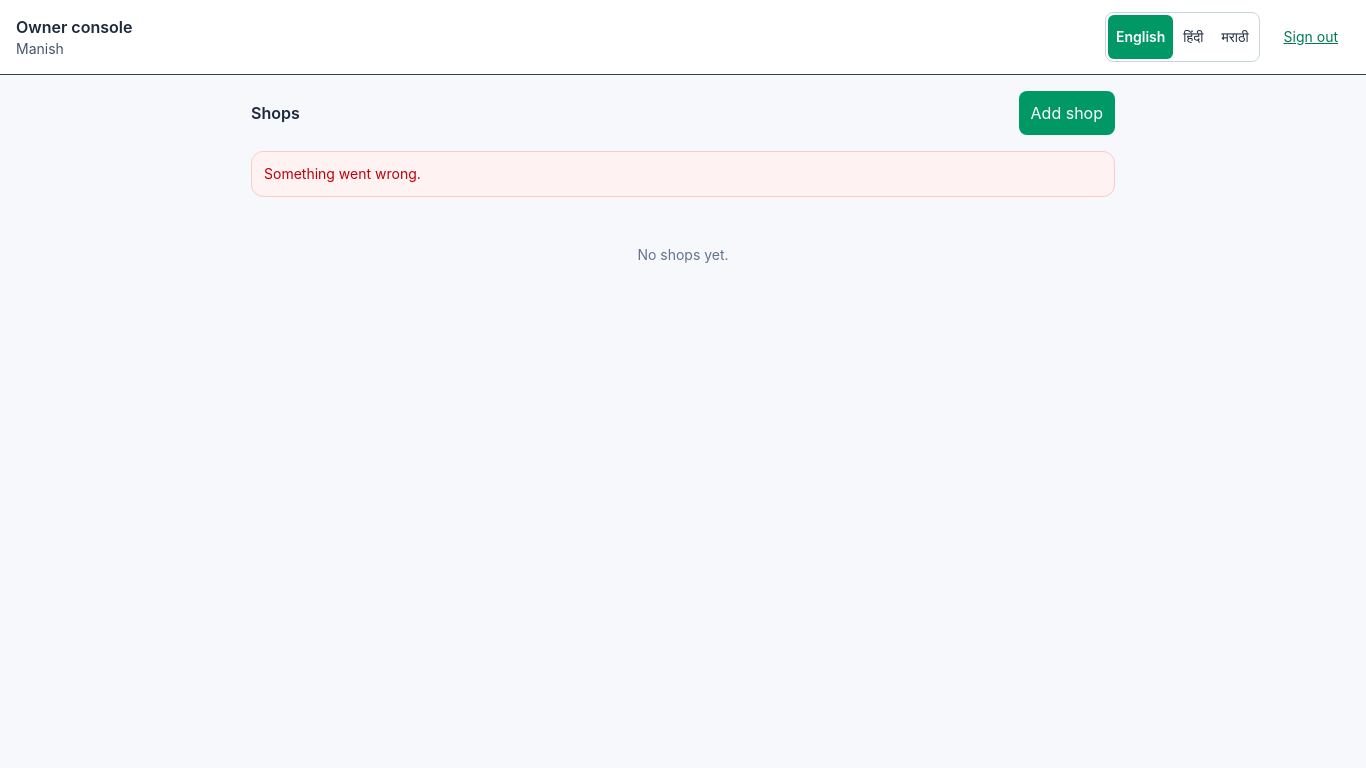
the owner console › clears a load failure once a later load succeeds
The width and height of the screenshot is (1366, 768).
Expected: the text "Something went wrong." is shown, top-left (264, 165), bottom-right (421, 182)
Step 1. Click the button with test id "owner-add" → [1067, 113], box top-left (1019, 91), bottom-right (1115, 135)
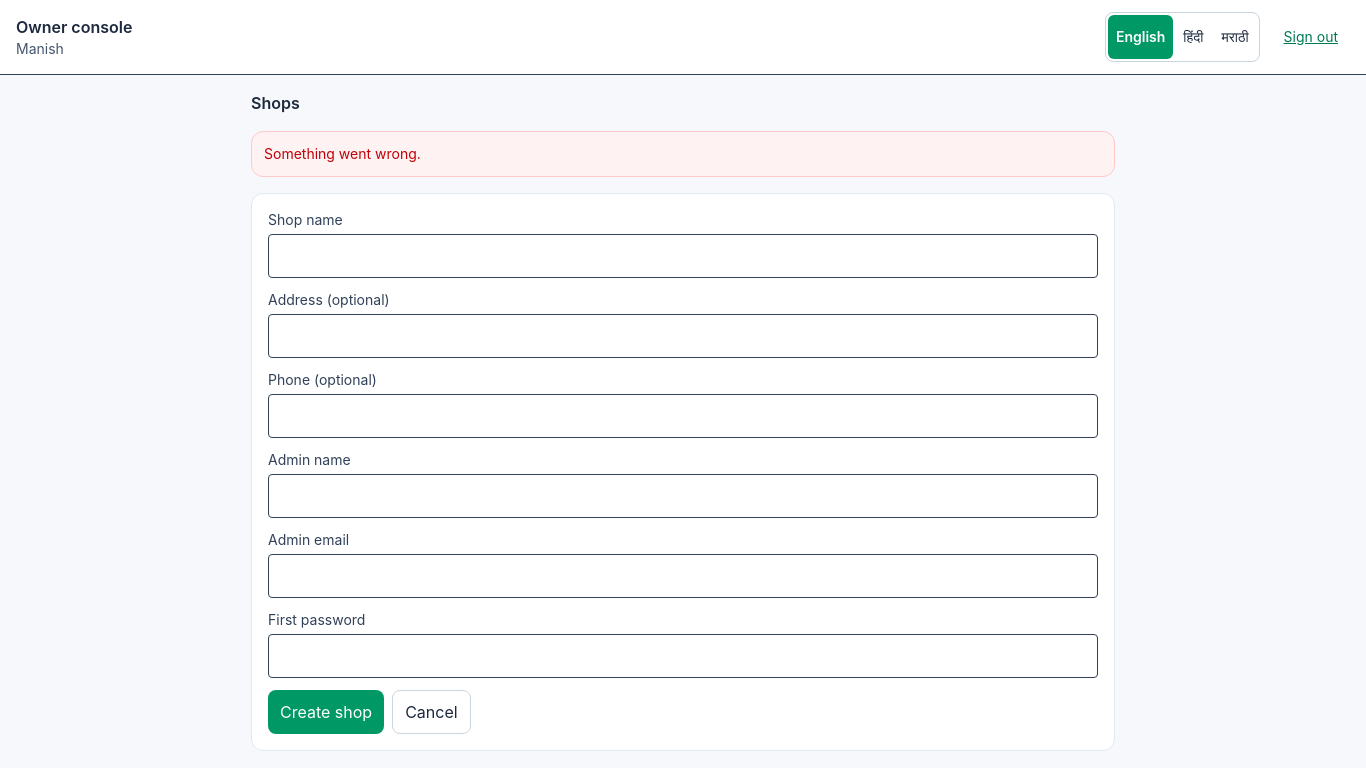
Step 2. Type "New Shop" into the field with test id "owner-vendorName" → [683, 256], box top-left (268, 234), bottom-right (1098, 278)
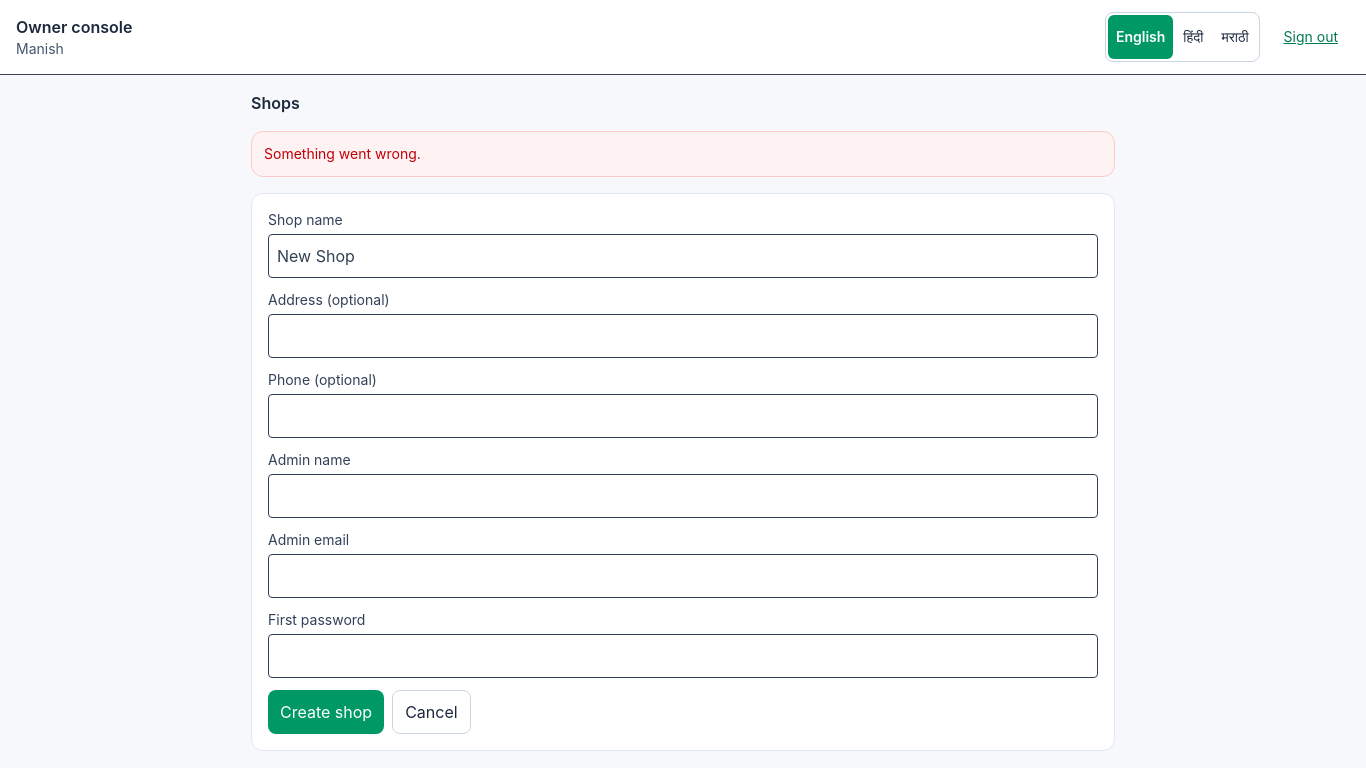
Step 3. Type "Asha" into the field with test id "owner-adminName" → [683, 496], box top-left (268, 474), bottom-right (1098, 518)
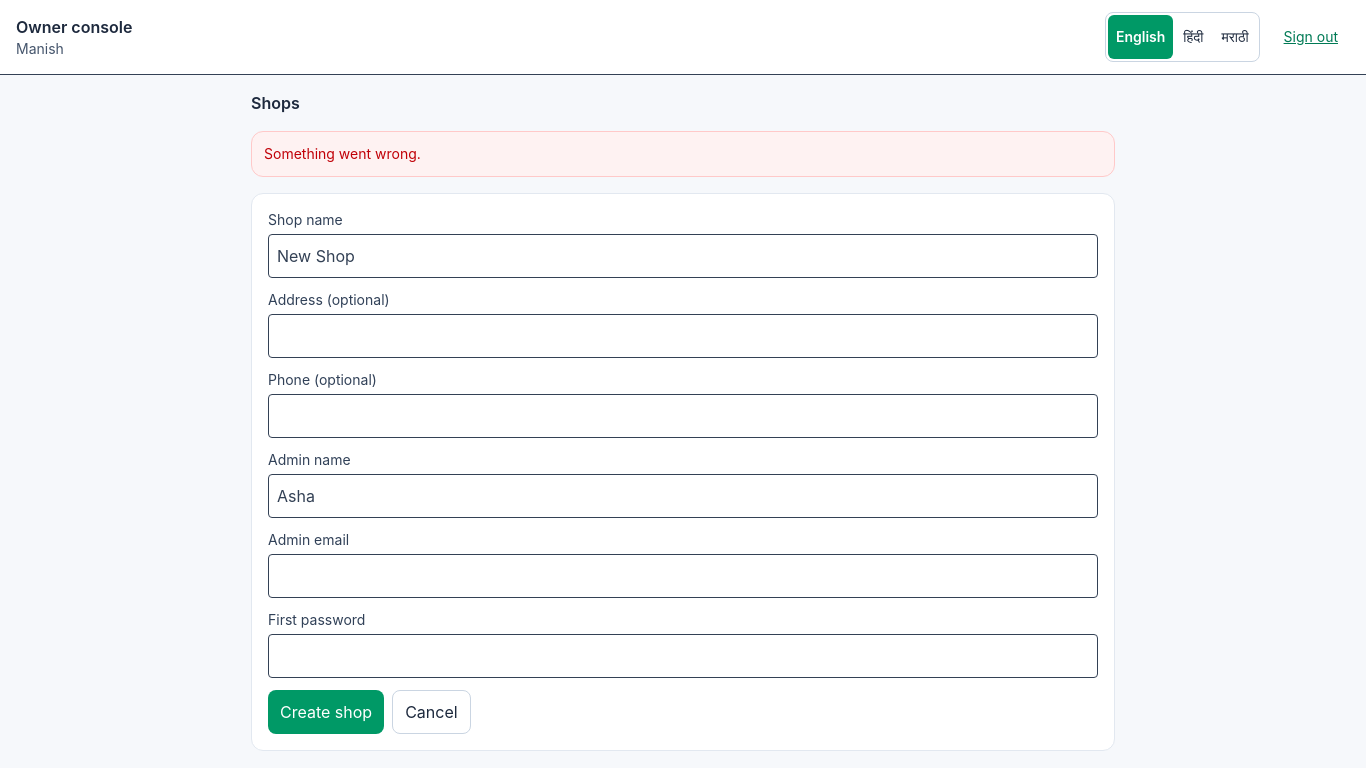
Step 4. Type "asha@shop.test" into the field with test id "owner-email" → [683, 576], box top-left (268, 554), bottom-right (1098, 598)
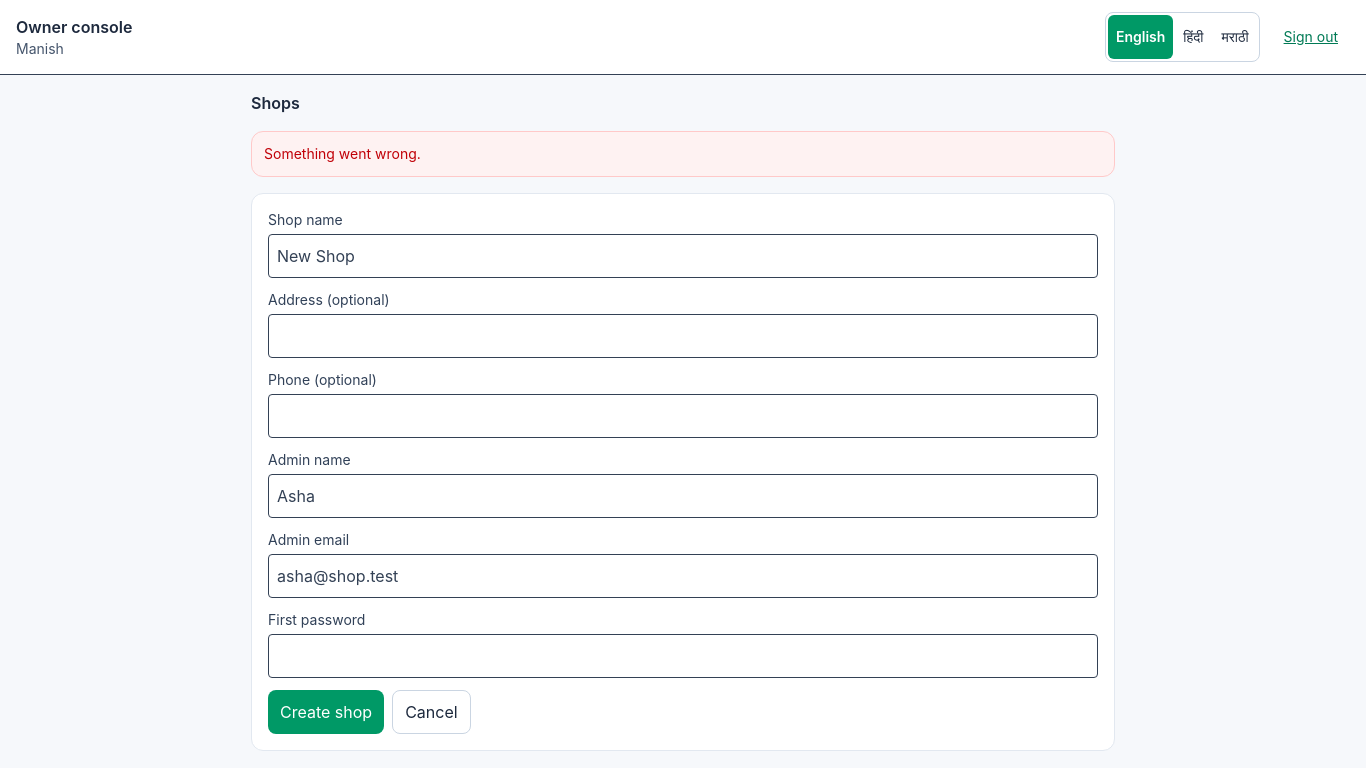
Step 5. Type "sunflower9" into the password field with test id "owner-password" → [683, 656], box top-left (268, 634), bottom-right (1098, 678)
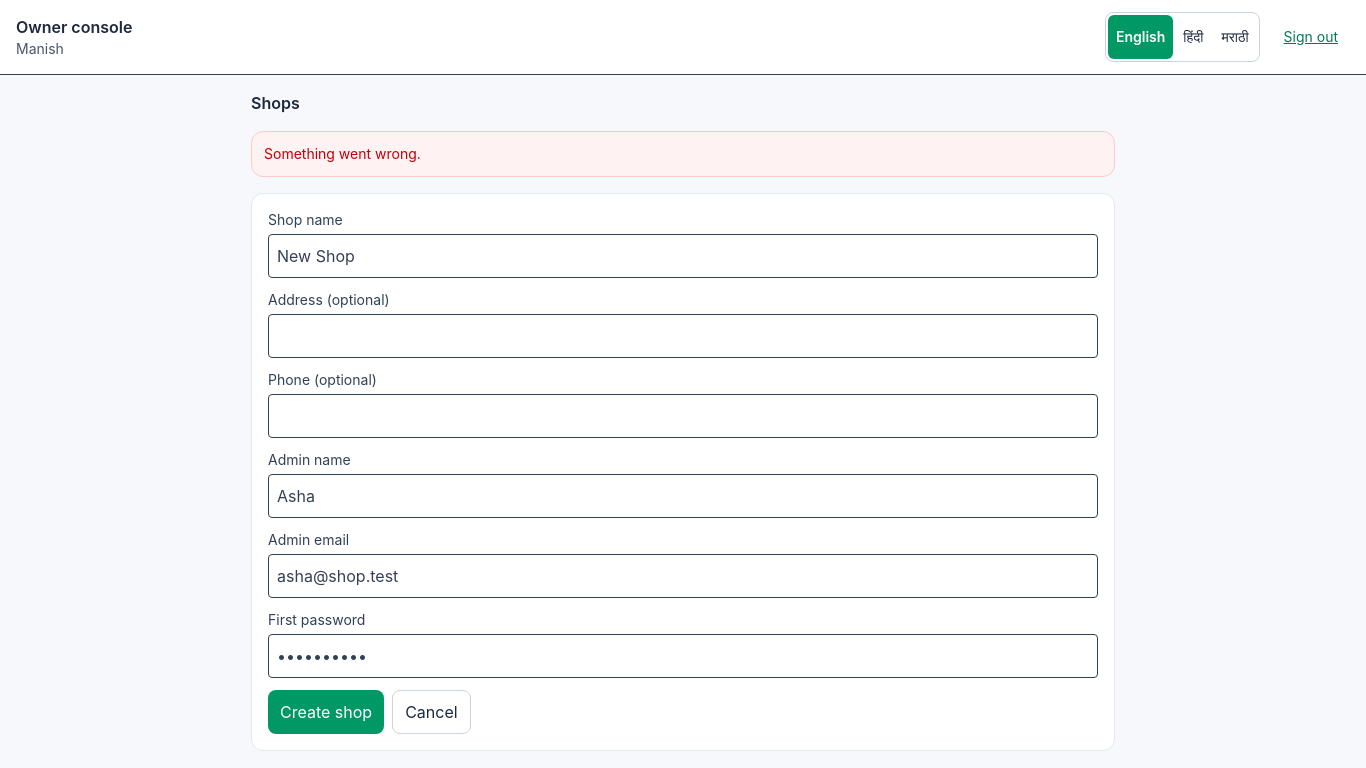
Step 6. Click the button with test id "owner-save" → [326, 712], box top-left (268, 690), bottom-right (384, 734)
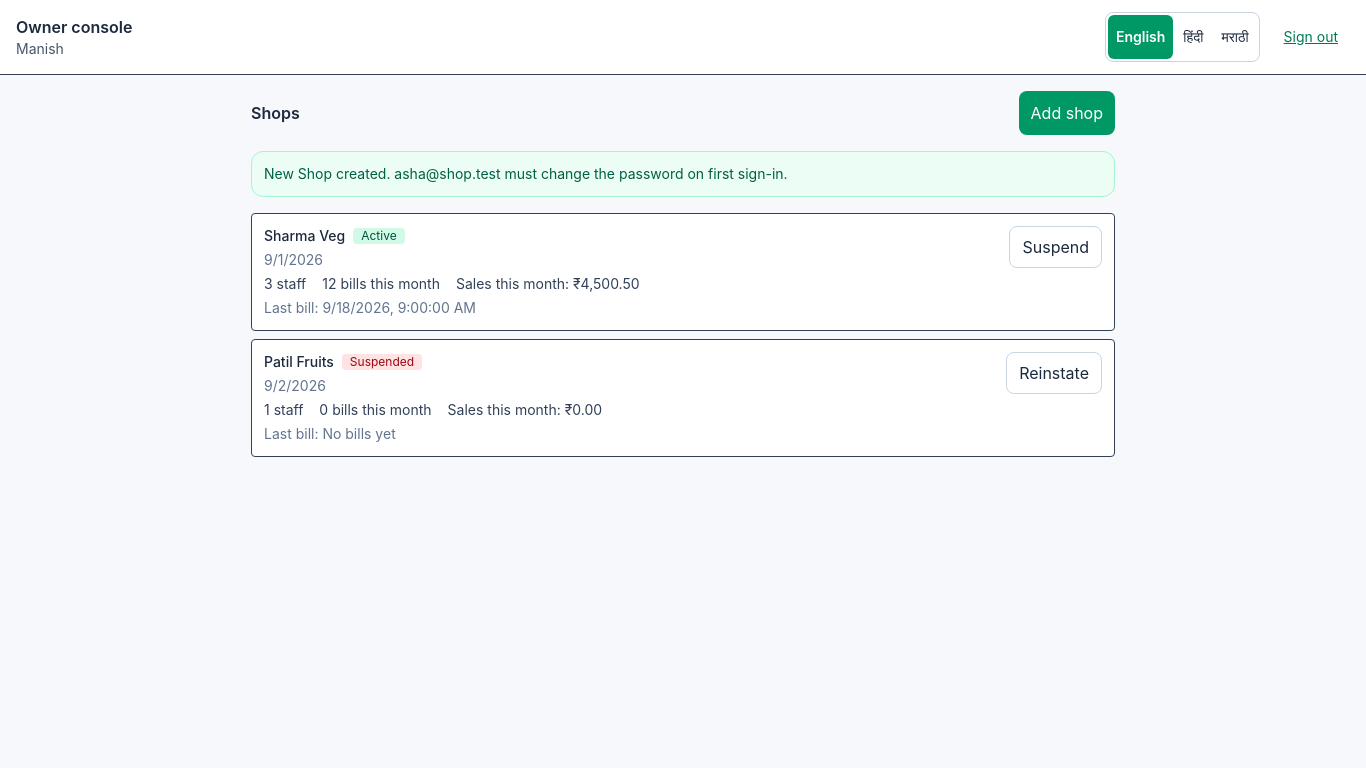
Expected: the list item with test id "owner-vendor-v1" is shown, top-left (251, 213), bottom-right (1115, 331)
Expected: the text with test id "owner-problem" is gone
